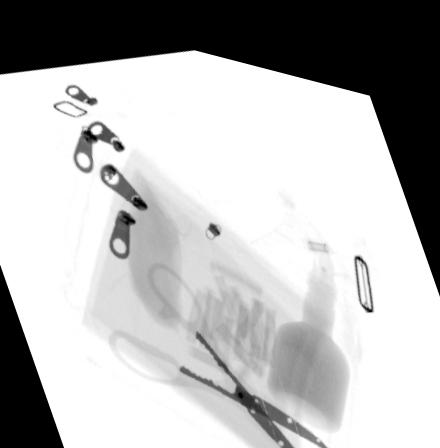Scissors: (107, 252, 335, 448)
